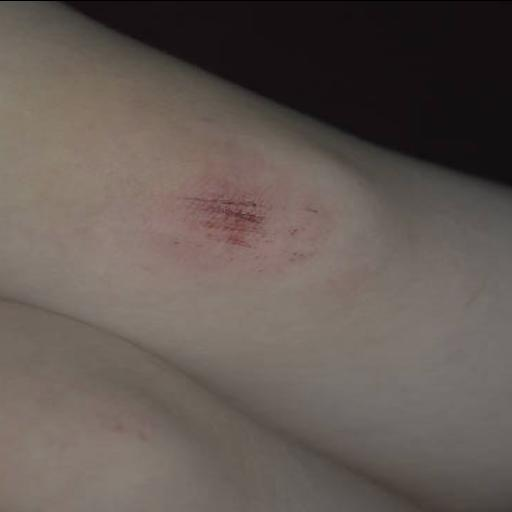bruises: (182, 204, 268, 260)
